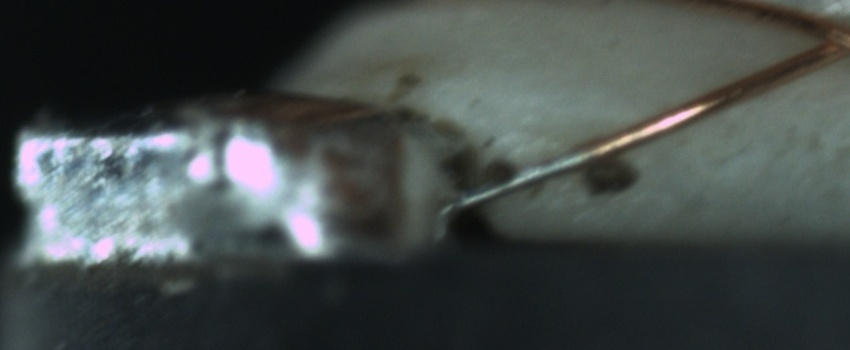CL: (796, 8, 849, 65)
TS: (448, 147, 590, 214)
